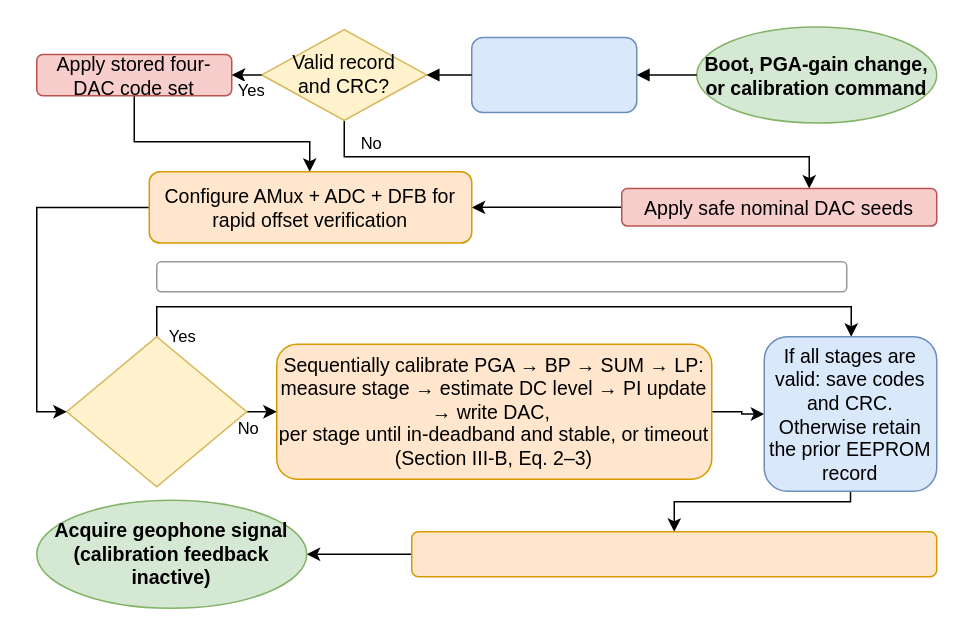
The diagram is 963 pixels wide and 635 high, and some of its shapes have lost their labels. The shapes that lost their labels are listed below. From the top down, each one's box as (x1, y1, x2, y2) in pixels, then its label:
(470, 36, 637, 112): Load EEPROM record for selected PGA gain
(155, 260, 847, 292): Orange: PSoC hardware Blue: firmware/control Red: DAC actuation Yellow: decision
(65, 335, 247, 487): Stored operating point accepted?
(410, 530, 937, 577): Restore acquisition routing and DFB coefficients; freeze all DAC codes
